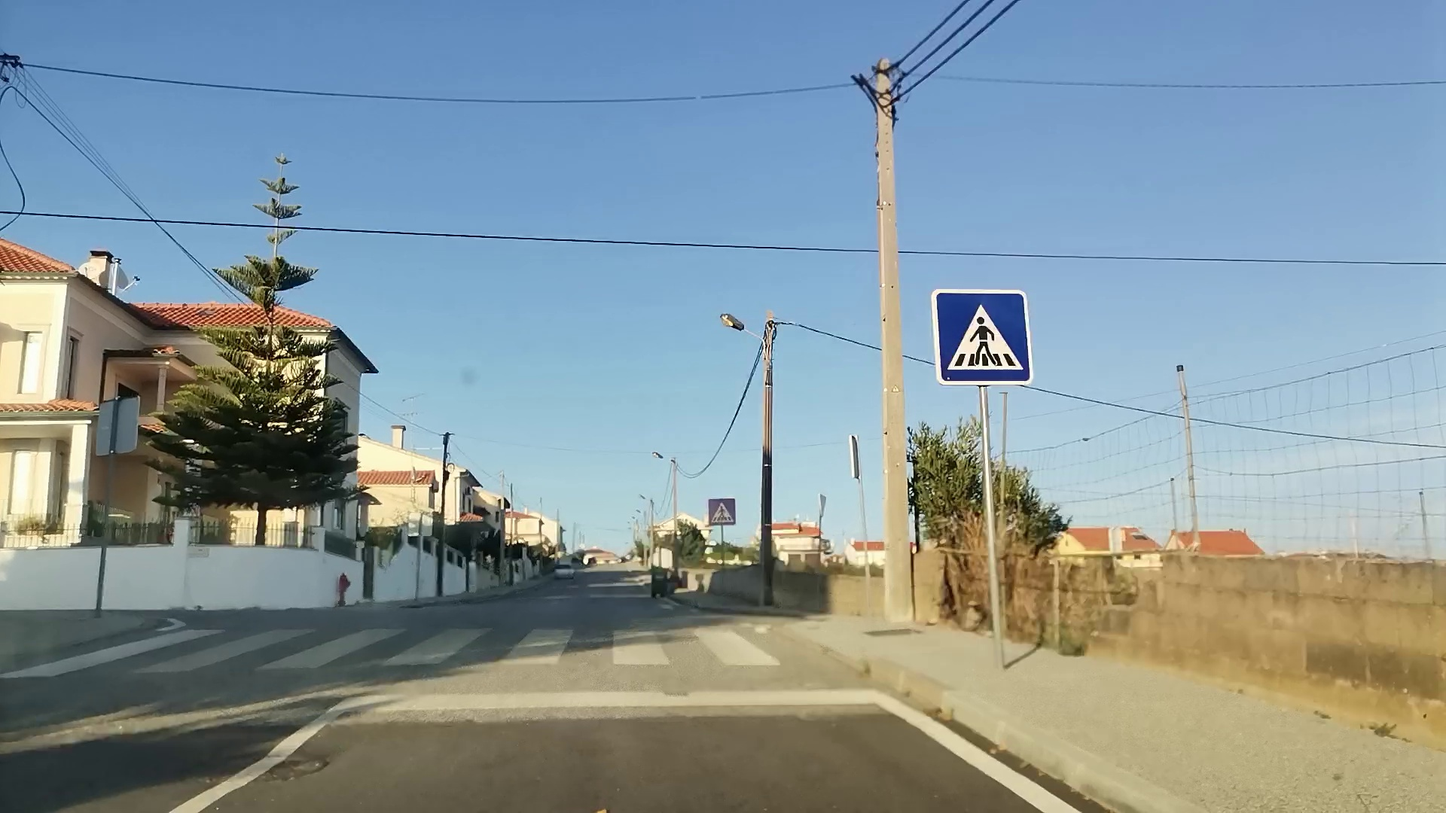Stairs: (0, 620, 785, 676)
